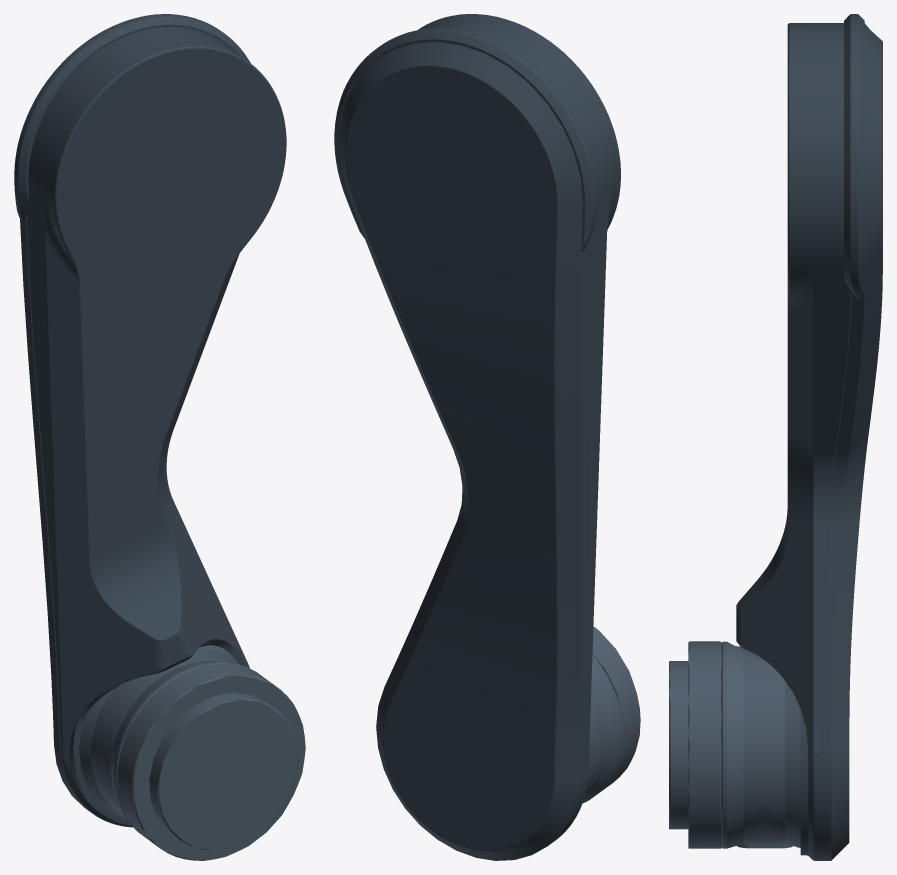
File: hr_knee.dae
3 views of the same model, side by side, from view 1: azimuth 30°, elevation 25°; view 2: azimuth 150°, elevation 25°; view 3: azimuth 270°, elevation 25° (orthographic). The views are drawn at different scales.
Parts seen in each view (by area): view 1: 移动面10, 圆角16, 圆角1, 切除-拉伸49; view 2: 圆角1, 移动面10, 切除-拉伸49, 圆角16; view 3: 移动面10, 圆角1, 切除-拉伸49, 圆角16.
Part boxes in pixels (bbox=[...]): 移动面10: bbox=[26, 27, 286, 825]; 圆角16: bbox=[117, 663, 305, 860]; 圆角1: bbox=[14, 14, 250, 827]; 切除-拉伸49: bbox=[79, 645, 257, 833]; 圆角1: bbox=[334, 28, 597, 860]; 移动面10: bbox=[417, 14, 620, 791]; 切除-拉伸49: bbox=[582, 655, 623, 803]; 圆角16: bbox=[592, 626, 640, 792]; 移动面10: bbox=[736, 23, 851, 855]; 圆角1: bbox=[808, 14, 882, 860]; 切除-拉伸49: bbox=[721, 641, 800, 848]; 圆角16: bbox=[669, 641, 721, 848].
Size of the model in its own units: 115 by 83.14 by 352.
